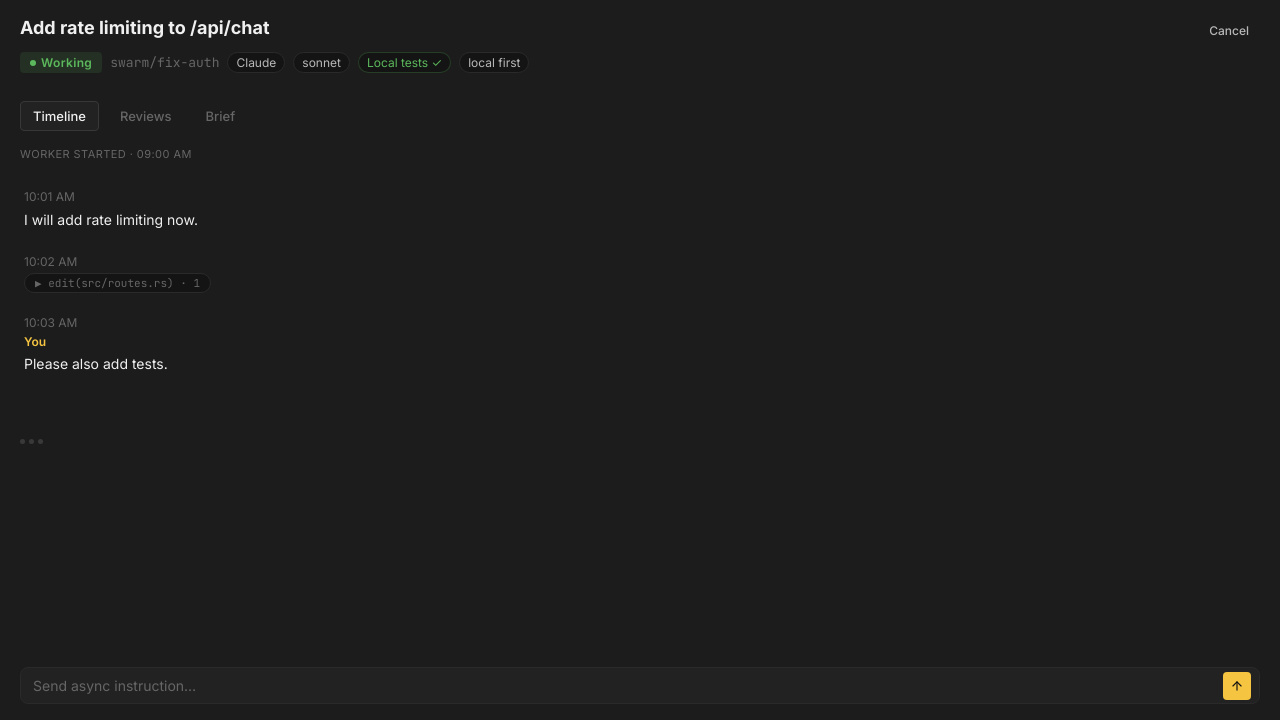
Test: WorkerDetailV2 › Brief tab renders goal from brief object
expect the element with test id "status-badge" is shown: met, box [20,52,102,73]
What coordinates should you click on to do the following:
click the tab "Brief"
I would click on:
 (220, 116)
Its box is [192,101,248,131].
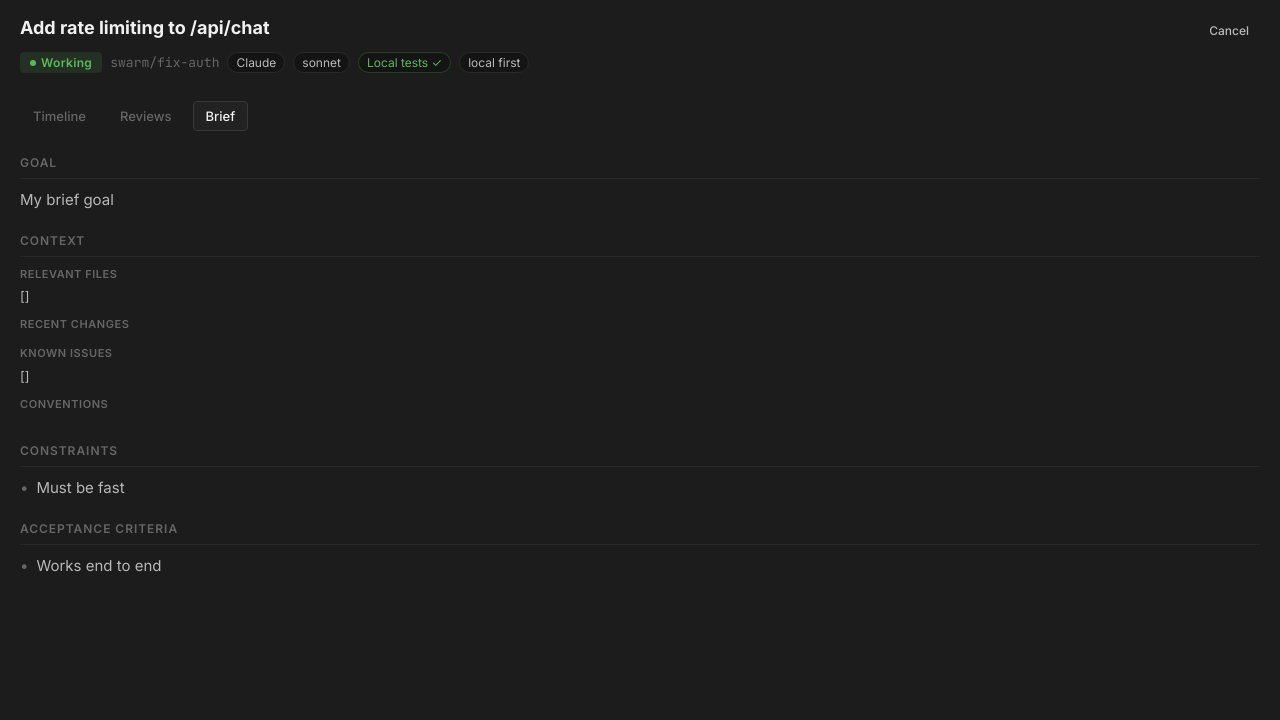
expect the text "My brief goal" is shown: met, box [20,190,114,209]
expect the list item "Must be fast" is shown: met, box [36,478,125,497]
expect the list item "Works end to end" is shown: met, box [36,556,161,575]
